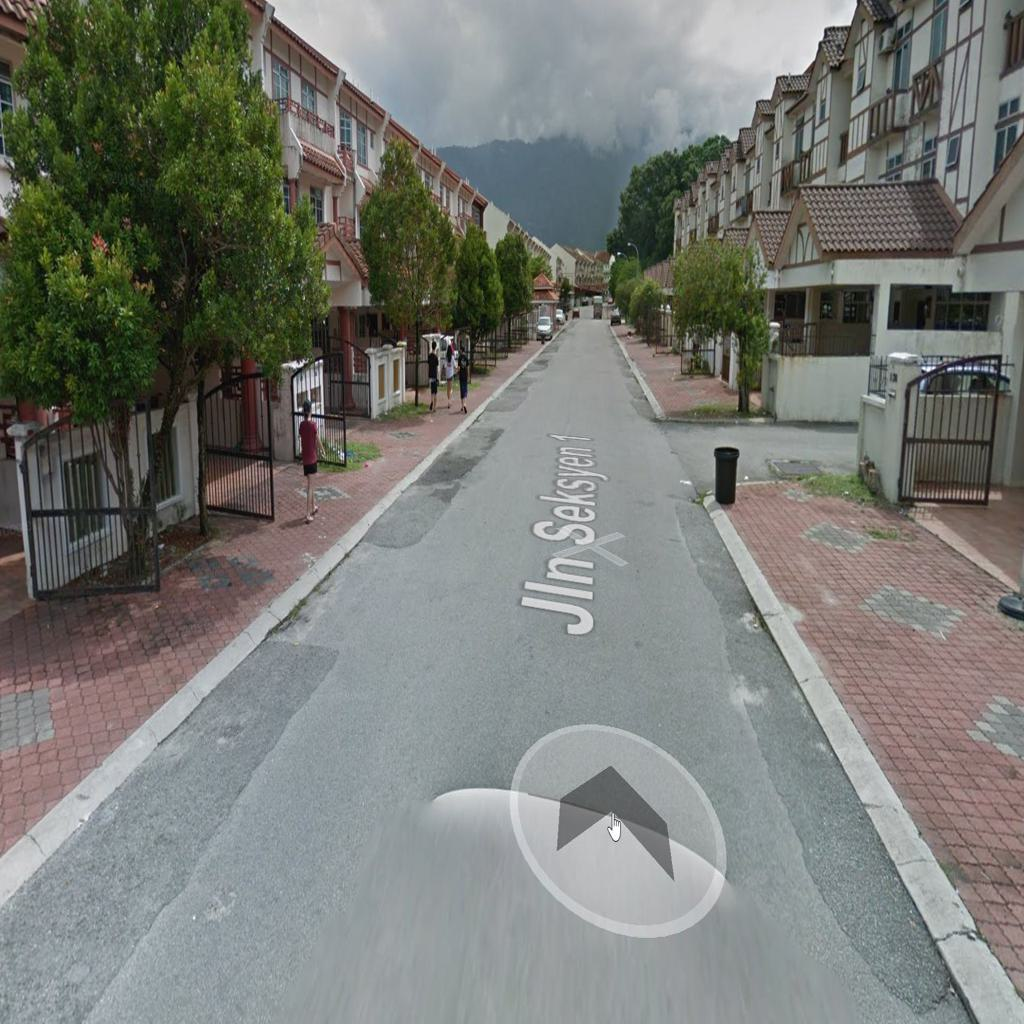Junction: (570, 374, 859, 519)
